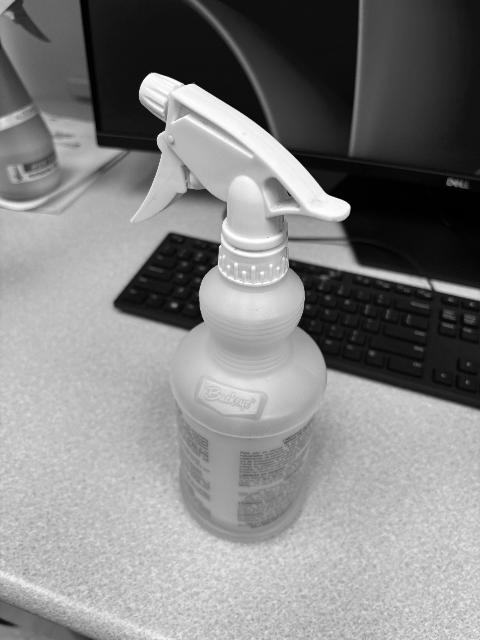StarSpray: (137, 74, 351, 546)
